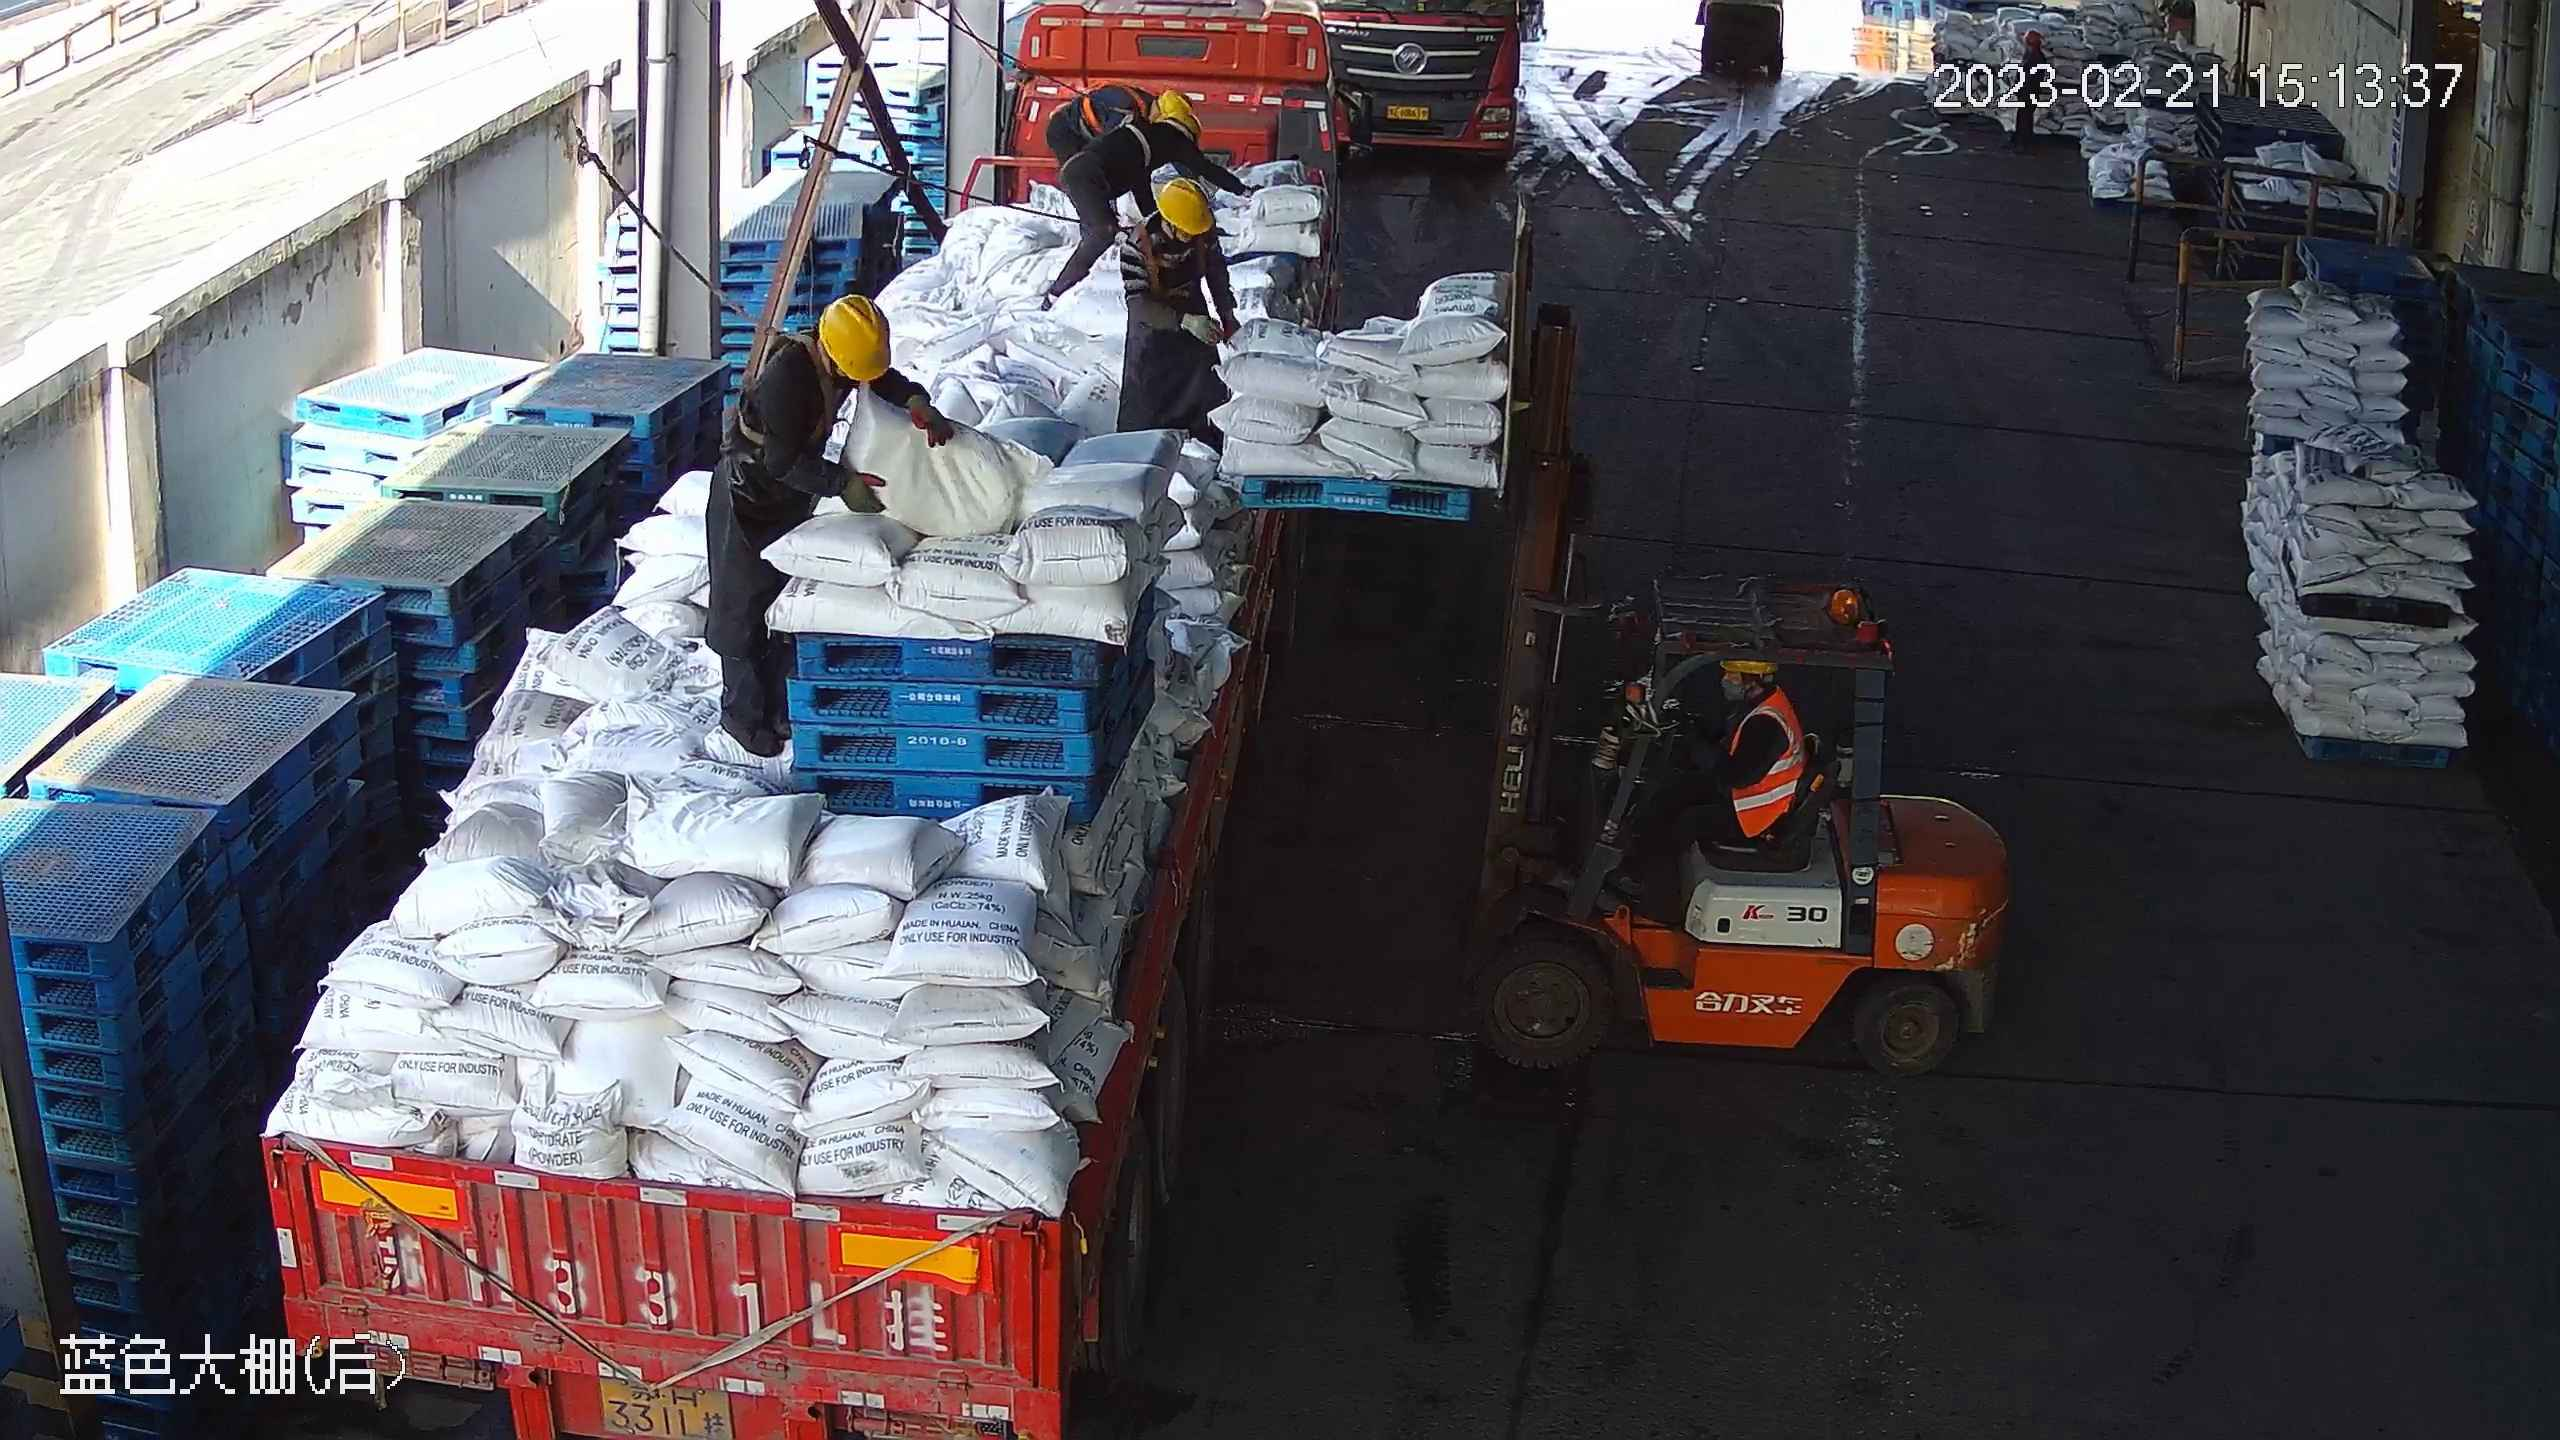belt: (735, 327, 842, 449), (1137, 223, 1208, 305), (1080, 79, 1148, 135), (1101, 108, 1150, 166)
head: (765, 293, 893, 401), (1120, 178, 1223, 264), (1105, 84, 1194, 133), (1134, 111, 1201, 161)
helmet: (817, 293, 892, 383), (1155, 177, 1216, 235), (1164, 111, 1201, 139), (1158, 90, 1194, 114)
people: (703, 292, 955, 759), (1611, 660, 1807, 897), (1039, 111, 1265, 314), (1117, 177, 1240, 453), (1045, 81, 1192, 169)
truck: (259, 1, 1372, 1440), (1322, 1, 1525, 155)
